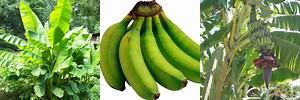banana: (98, 0, 203, 91), (247, 16, 274, 48)
